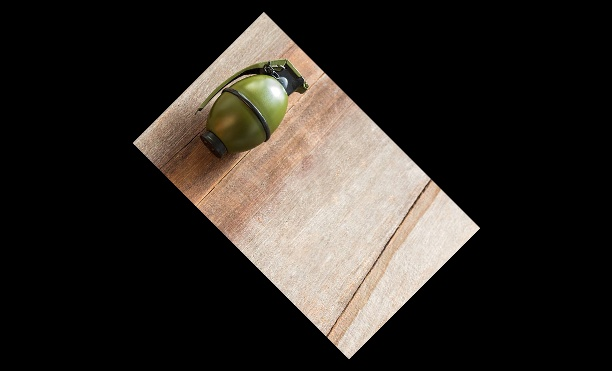e1: (197, 57, 311, 156)
